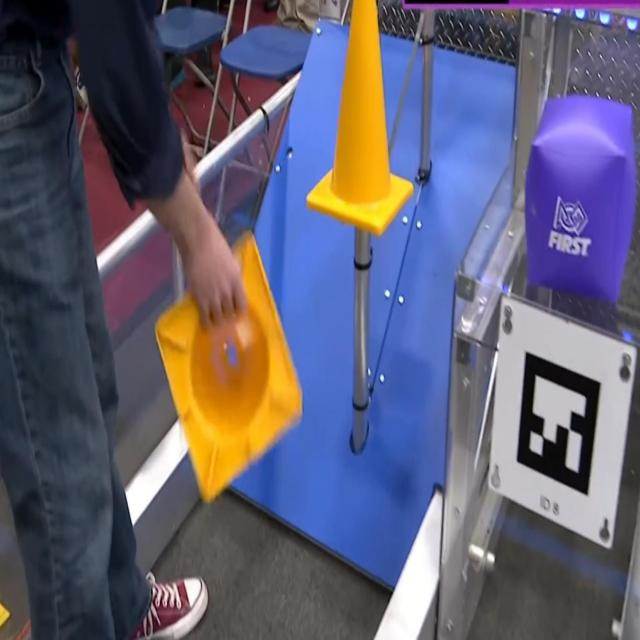frc_cone: (154, 228, 304, 504), (306, 0, 414, 237)
frc_cube: (526, 92, 637, 303)
